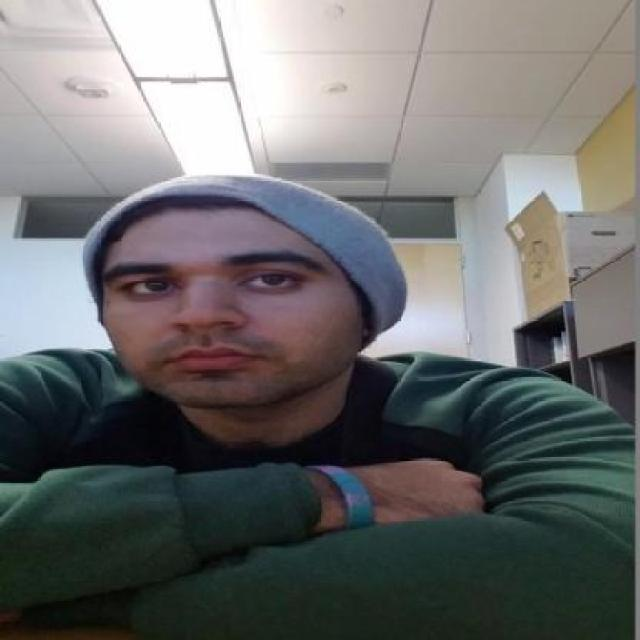awake: (120, 274, 178, 298), (248, 270, 298, 292)
